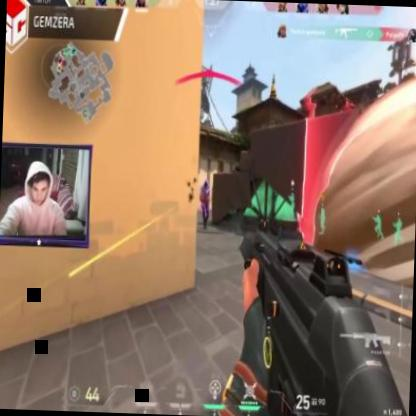enemy: (198, 178, 210, 230)
enemy_head: (204, 178, 208, 190)
